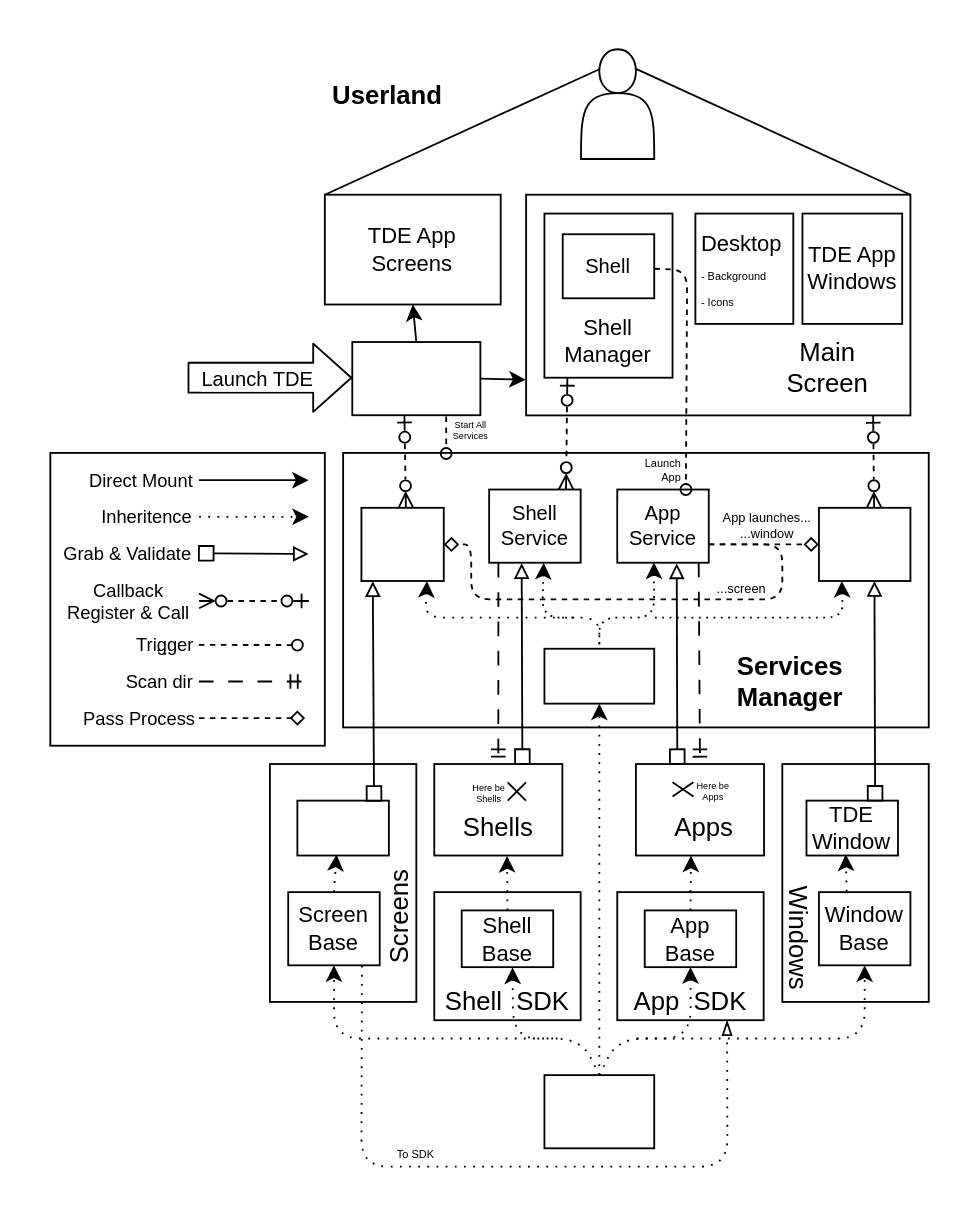
Image size: 977x1215. Some labels were removed from this diagram. The shapes that lost their labels are listed below. From the top down, each one's box as (x1, y1, x2, y2) in pixels, then its label:
(350, 340, 480, 415): Main App
(360, 506, 444, 581): Screen Service
(817, 506, 910, 581): Window Service
(543, 647, 654, 704): Service Base
(296, 799, 389, 856): TDE Screen
(543, 1073, 654, 1148): Ace Of Base
